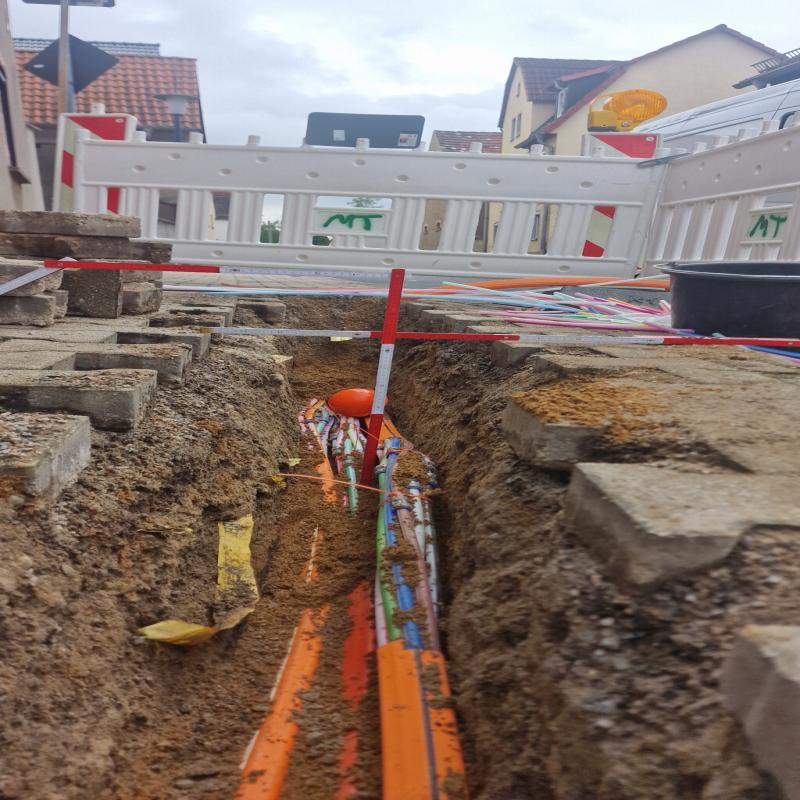Kugelmarker: (326, 388, 375, 416)
Orang-Speednetrohrchen: (230, 429, 463, 797)
